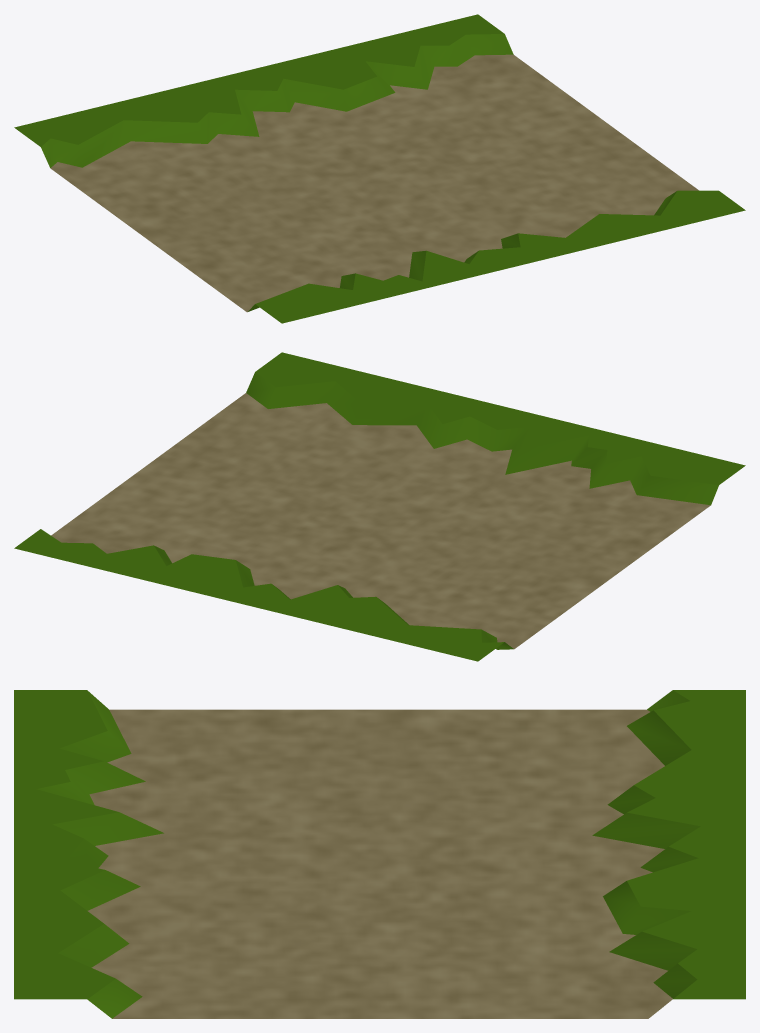
Rendered from tile6.fbx.
3 renders of one model, top to bottom at view 1: azimuth 30°, elevation 25°; view 2: azimuth 150°, elevation 25°; view 3: azimuth 270°, elevation 25°, orthographic. The views are drawn at different scales.
Parts seen in each view (by area): view 1: Plane.005; view 2: Plane.005; view 3: Plane.005.
Boxes of the visible parts, x1,y1,x2,y2 form: Plane.005: (14, 14, 745, 323); Plane.005: (14, 352, 745, 661); Plane.005: (14, 690, 745, 1018).
Size of the model in its own units: 100 by 2.94 by 100.
